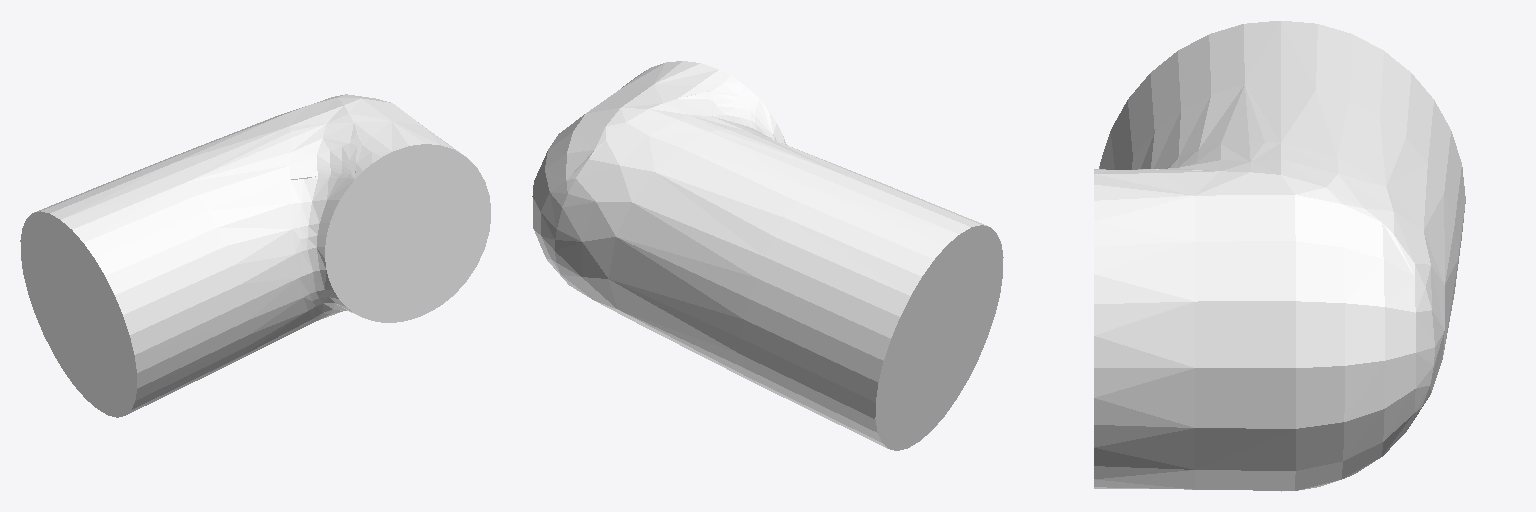
The robot description file, URDF, robot "cobotta":
<?xml version="1.0" encoding="UTF-8"?>
<robot name="cobotta">
	<gazebo>
		<plugin name="gazebo_ros_control" filename="libgazebo_ros_control.so">
			<robotNamespace>/cobotta</robotNamespace>
		</plugin>
	</gazebo>
	<link name="world"/>
	<joint name="joint_w" type="fixed">
		<parent link="world"/>
		<child link="base_link"/>
	</joint>
	<link name="base_link">
		<visual>
			<origin rpy="0 0 0" xyz="0 0 0"/>
			<geometry>
				<mesh filename="package://denso_cobotta_descriptions/cobotta_description/base_link.dae" scale="1 1 1"/>
			</geometry>
		</visual>
		<collision>
			<origin rpy="0 0 0" xyz="0 0 0"/>
			<geometry>
				<mesh filename="package://denso_cobotta_descriptions/cobotta_description/base_link.dae" scale="1 1 1"/>
			</geometry>
		</collision>
		<inertial>
			<mass value="1"/>
			<origin rpy="0.000000 0.000000 0.000000" xyz="0.000000 0.000000 0.000000"/>
			<inertia ixx="1" ixy="0" ixz="0" iyy="1" iyz="0" izz="1"/>
		</inertial>
	</link>
	<link name="J1">
		<visual>
			<origin rpy="0 0 0" xyz="0 0 0"/>
			<geometry>
				<mesh filename="package://denso_cobotta_descriptions/cobotta_description/J1.dae" scale="1 1 1"/>
			</geometry>
		</visual>
		<collision>
			<origin rpy="0 0 0" xyz="0 0 0"/>
			<geometry>
				<mesh filename="package://denso_cobotta_descriptions/cobotta_description/J1.dae" scale="1 1 1"/>
			</geometry>
		</collision>
		<inertial>
			<mass value="1"/>
			<origin rpy="0.000000 0.000000 0.000000" xyz="0.000000 0.000000 0.000000"/>
			<inertia ixx="1" ixy="0" ixz="0" iyy="1" iyz="0" izz="1"/>
		</inertial>
	</link>
	<joint name="joint_1" type="revolute">
		<parent link="base_link"/>
		<child link="J1"/>
		<origin rpy="0.000000 0.000000 0.000000" xyz="0.000000 0.000000 0.000000"/>
		<axis xyz="-0.000000 -0.000000 1.000000"/>
		<limit effort="1" lower="-2.617994" upper="2.617994" velocity="0.2"/>
		<dynamics damping="0" friction="0"/>
	</joint>
	<transmission name="trans_1">
		<type>transmission_interface/SimpleTransmission</type>
		<joint name="joint_1">
			<hardwareInterface>PositionJointInterface</hardwareInterface>
		</joint>
		<actuator name="motor_1">
			<hardwareInterface>PositionJointInterface</hardwareInterface>
			<mechanicalReduction>1</mechanicalReduction>
		</actuator>
	</transmission>
	<link name="J2">
		<visual>
			<origin rpy="0 0 0" xyz="0 0 0"/>
			<geometry>
				<mesh filename="package://denso_cobotta_descriptions/cobotta_description/J2.dae" scale="1 1 1"/>
			</geometry>
		</visual>
		<collision>
			<origin rpy="0 0 0" xyz="0 0 0"/>
			<geometry>
				<mesh filename="package://denso_cobotta_descriptions/cobotta_description/J2.dae" scale="1 1 1"/>
			</geometry>
		</collision>
		<inertial>
			<mass value="1"/>
			<origin rpy="0.000000 0.000000 0.000000" xyz="0.000000 0.000000 0.000000"/>
			<inertia ixx="1" ixy="0" ixz="0" iyy="1" iyz="0" izz="1"/>
		</inertial>
	</link>
	<joint name="joint_2" type="revolute">
		<parent link="J1"/>
		<child link="J2"/>
		<origin rpy="0.000000 0.000000 0.000000" xyz="0.000000 0.000000 0.180000"/>
		<axis xyz="-0.000000 1.000000 -0.000000"/>
		<limit effort="1" lower="-1.047198" upper="1.745329" velocity="0.2"/>
		<dynamics damping="0" friction="0"/>
	</joint>
	<transmission name="trans_2">
		<type>transmission_interface/SimpleTransmission</type>
		<joint name="joint_2">
			<hardwareInterface>PositionJointInterface</hardwareInterface>
		</joint>
		<actuator name="motor_2">
			<hardwareInterface>PositionJointInterface</hardwareInterface>
			<mechanicalReduction>1</mechanicalReduction>
		</actuator>
	</transmission>
	<link name="J3">
		<visual>
			<origin rpy="0 0 0" xyz="0 0 0"/>
			<geometry>
				<mesh filename="package://denso_cobotta_descriptions/cobotta_description/J3.dae" scale="1 1 1"/>
			</geometry>
		</visual>
		<collision>
			<origin rpy="0 0 0" xyz="0 0 0"/>
			<geometry>
				<mesh filename="package://denso_cobotta_descriptions/cobotta_description/J3.dae" scale="1 1 1"/>
			</geometry>
		</collision>
		<inertial>
			<mass value="1"/>
			<origin rpy="0.000000 0.000000 0.000000" xyz="0.000000 0.000000 0.000000"/>
			<inertia ixx="1" ixy="0" ixz="0" iyy="1" iyz="0" izz="1"/>
		</inertial>
	</link>
	<joint name="joint_3" type="revolute">
		<parent link="J2"/>
		<child link="J3"/>
		<origin rpy="0.000000 0.000000 0.000000" xyz="0.000000 0.000000 0.165000"/>
		<axis xyz="-0.000000 1.000000 -0.000000"/>
		<limit effort="1" lower="0.3141593" upper="2.443461" velocity="0.2"/>
		<dynamics damping="0" friction="0"/>
	</joint>
	<transmission name="trans_3">
		<type>transmission_interface/SimpleTransmission</type>
		<joint name="joint_3">
			<hardwareInterface>PositionJointInterface</hardwareInterface>
		</joint>
		<actuator name="motor_3">
			<hardwareInterface>PositionJointInterface</hardwareInterface>
			<mechanicalReduction>1</mechanicalReduction>
		</actuator>
	</transmission>
	<link name="J4">
		<visual>
			<origin rpy="0 0 0" xyz="0 0 -0.522500"/>
			<geometry>
				<mesh filename="package://denso_cobotta_descriptions/cobotta_description/J4.dae" scale="1 1 1"/>
			</geometry>
		</visual>
		<collision>
			<origin rpy="0 0 0" xyz="0 0 0"/>
			<geometry>
				<mesh filename="package://denso_cobotta_descriptions/cobotta_description/J4.dae" scale="1 1 1"/>
			</geometry>
		</collision>
		<inertial>
			<mass value="1"/>
			<origin rpy="0.000000 0.000000 0.000000" xyz="0.000000 0.000000 0.000000"/>
			<inertia ixx="1" ixy="0" ixz="0" iyy="1" iyz="0" izz="1"/>
		</inertial>
	</link>
	<joint name="joint_4" type="revolute">
		<parent link="J3"/>
		<child link="J4"/>
		<origin rpy="0.000000 0.000000 0.000000" xyz="-0.012000 0.020000 0.1775"/>
		<axis xyz="-0.000000 -0.000000 1.000000"/>
		<limit effort="1" lower="-2.96706" upper="2.96706" velocity="0.2"/>
		<dynamics damping="0" friction="0"/>
	</joint>
	<transmission name="trans_4">
		<type>transmission_interface/SimpleTransmission</type>
		<joint name="joint_4">
			<hardwareInterface>PositionJointInterface</hardwareInterface>
		</joint>
		<actuator name="motor_4">
			<hardwareInterface>PositionJointInterface</hardwareInterface>
			<mechanicalReduction>1</mechanicalReduction>
		</actuator>
	</transmission>
	<link name="J5">
		<visual>
			<origin rpy="0 0 0" xyz="0 0 0"/>
			<geometry>
				<mesh filename="package://denso_cobotta_descriptions/cobotta_description/J5.dae" scale="1 1 1"/>
			</geometry>
		</visual>
		<collision>
			<origin rpy="0 0 0" xyz="0 0 0"/>
			<geometry>
				<mesh filename="package://denso_cobotta_descriptions/cobotta_description/J5.dae" scale="1 1 1"/>
			</geometry>
		</collision>
		<inertial>
			<mass value="1"/>
			<origin rpy="0.000000 0.000000 0.000000" xyz="0.000000 0.000000 0.000000"/>
			<inertia ixx="1" ixy="0" ixz="0" iyy="1" iyz="0" izz="1"/>
		</inertial>
	</link>
	<joint name="joint_5" type="revolute">
		<parent link="J4"/>
		<child link="J5"/>
		<origin rpy="0.000000 0.000000 0.000000" xyz="0.000000 -0.020000 0.000000"/>
		<axis xyz="-0.000000 1.000000 -0.000000"/>
		<limit effort="1" lower="-1.658063" upper="2.356194" velocity="0.2"/>
		<dynamics damping="0" friction="0"/>
	</joint>
	<transmission name="trans_5">
		<type>transmission_interface/SimpleTransmission</type>
		<joint name="joint_5">
			<hardwareInterface>PositionJointInterface</hardwareInterface>
		</joint>
		<actuator name="motor_5">
			<hardwareInterface>PositionJointInterface</hardwareInterface>
			<mechanicalReduction>1</mechanicalReduction>
		</actuator>
	</transmission>
	<link name="J6">
		<visual>
			<origin rpy="0 0 0" xyz="0 0 0"/>
			<geometry>
				<mesh filename="package://denso_cobotta_descriptions/cobotta_description/J6.dae" scale="1 1 1"/>
			</geometry>
		</visual>
		<collision>
			<origin rpy="0 0 0" xyz="0 0 0"/>
			<geometry>
				<mesh filename="package://denso_cobotta_descriptions/cobotta_description/J6.dae" scale="1 1 1"/>
			</geometry>
		</collision>
		<inertial>
			<mass value="1"/>
			<origin rpy="0.000000 0.000000 0.000000" xyz="0.000000 0.000000 0.000000"/>
			<inertia ixx="1" ixy="0" ixz="0" iyy="1" iyz="0" izz="1"/>
		</inertial>
	</link>
	<joint name="joint_6" type="revolute">
		<parent link="J5"/>
		<child link="J6"/>
		<origin rpy="0.000000 0.000000 0.000000" xyz="0.000000 -0.044500 0.042000"/>
		<axis xyz="-0.000000 -0.000000 1.000000"/>
		<limit effort="1" lower="-2.96706" upper="2.96706" velocity="0.2"/>
		<dynamics damping="0" friction="0"/>
	</joint>
	<transmission name="trans_6">
		<type>transmission_interface/SimpleTransmission</type>
		<joint name="joint_6">
			<hardwareInterface>PositionJointInterface</hardwareInterface>
		</joint>
		<actuator name="motor_6">
			<hardwareInterface>PositionJointInterface</hardwareInterface>
			<mechanicalReduction>1</mechanicalReduction>
		</actuator>
	</transmission>

	<link name="gripper_base">
		<visual>
			<origin rpy="0 0 0" xyz="0 0 0"/>
			<geometry>
				<mesh filename="package://denso_cobotta_descriptions/cobotta_description/gripper_base.dae" scale="1 1 1"/>
			</geometry>
		</visual>
		<collision>
			<origin rpy="0 0 0" xyz="0 0 0"/>
			<geometry>
				<mesh filename="package://denso_cobotta_descriptions/cobotta_description/gripper_base.dae" scale="1 1 1"/>
			</geometry>
		</collision>
		<inertial>
			<mass value="1"/>
			<origin rpy="0.000000 0.000000 0.000000" xyz="0.000000 0.000000 0.000000"/>
			<inertia ixx="1" ixy="0" ixz="0" iyy="1" iyz="0" izz="1"/>
		</inertial>
	</link>
	<joint name="joint_gripper_base" type="fixed">
		<parent link="J6"/>
		<child link="gripper_base"/>
		<origin rpy="0.000000 0.000000 0.000000" xyz="0.000000 0.000000 0.000000"/>
	</joint>
	<link name="left_finger">
		<visual>
			<origin rpy="0.000000 0.000000 0.000000" xyz="0.000000 0.000000 0.000000"/>
			<geometry>
				<mesh filename="package://denso_cobotta_descriptions/cobotta_description/left_finger.dae" scale="1 1 1"/>
			</geometry>
		</visual>
		<collision>
			<origin rpy="0 0 0" xyz="0.000000 0.000000 0.000000"/>
			<geometry>
				<mesh filename="package://denso_cobotta_descriptions/cobotta_description/left_finger.dae" scale="1 1 1"/>
			</geometry>
		</collision>
		<inertial>
			<mass value="1"/>
			<origin rpy="0.000000 0.000000 0.000000" xyz="0.000000 0.000000 0.000000"/>
			<inertia ixx="1" ixy="0" ixz="0" iyy="1" iyz="0" izz="1"/>
		</inertial>
	</link>
	<joint name="joint_gripper" type="prismatic">
		<parent link="gripper_base"/>
		<child link="left_finger"/>
		<origin rpy="0.000000 0.000000 0.000000" xyz="0.000000 0.000000 0.000000"/>
		<axis xyz="-0.000000 1.000000 -0.000000"/>
		<limit effort="1" lower="0.000000" upper="0.015000" velocity="0.040000"/>
		<dynamics damping="0" friction="0"/>
	</joint>
	<transmission name="trans_hand">
		<type>transmission_interface/SimpleTransmission</type>
		<joint name="joint_gripper">
			<hardwareInterface>PositionJointInterface</hardwareInterface>
		</joint>
		<actuator name="motor_hand">
			<hardwareInterface>PositionJointInterface</hardwareInterface>
			<mechanicalReduction>1</mechanicalReduction>
		</actuator>
	</transmission>
	<link name="right_finger">
		<visual>
			<origin rpy="0.000000 0.000000 0.000000" xyz="0.000000 0.000000 0.000000"/>
			<geometry>
				<mesh filename="package://denso_cobotta_descriptions/cobotta_description/right_finger.dae" scale="1 1 1"/>
			</geometry>
		</visual>
		<collision>
			<origin rpy="0 0 0" xyz="0.000000 0.000000 0.000000"/>
			<geometry>
				<mesh filename="package://denso_cobotta_descriptions/cobotta_description/right_finger.dae" scale="1 1 1"/>
			</geometry>
		</collision>
		<inertial>
			<mass value="1"/>
			<origin rpy="0.000000 0.000000 0.000000" xyz="0.000000 0.000000 0.000000"/>
			<inertia ixx="1" ixy="0" ixz="0" iyy="1" iyz="0" izz="1"/>
		</inertial>
	</link>
	<joint name="joint_gripper_mimic" type="prismatic">
		<parent link="gripper_base"/>
		<child link="right_finger"/>
		<mimic joint="joint_gripper" multiplier="-1.000000" offset="0.000000"/>
		<origin rpy="0.000000 0.000000 0.000000" xyz="0.000000 0.000000 0.000000"/>
		<axis xyz="-0.000000 1.000000 -0.000000"/>
		<limit effort="1" lower="-0.015000" upper="0.000000" velocity="0.040000"/>
		<dynamics damping="0" friction="0"/>
	</joint>
</robot>

--- What the picture shows (computed from the rendered views, not written in the file) ---
Views: 3 orthographic renders of the robot side by side, from view 1: azimuth 30°, elevation 25°; view 2: azimuth 150°, elevation 25°; view 3: azimuth 270°, elevation 25°.
Model cobotta with 11 links and 10 joints (6 revolute, 2 prismatic, 2 fixed), rooted at world, posed joints at zero except 1 at the middle of their limits (joint_3 = 1.38).
Links seen in each view (by area): view 1: J4; view 2: J4; view 3: J4.
Link boxes in pixels (<box>): J4: <box>20,94,490,417</box>; J4: <box>532,61,1003,450</box>; J4: <box>1094,21,1465,491</box>.
Size in the robot's own frame: 0.1192 by 0.0617 by 0.074 metres.
Meshes: 10 distinct files referenced, 1 mesh visuals loaded (1 Collada DAE); not drawn: 9 (reference not matched to a file when rendering).